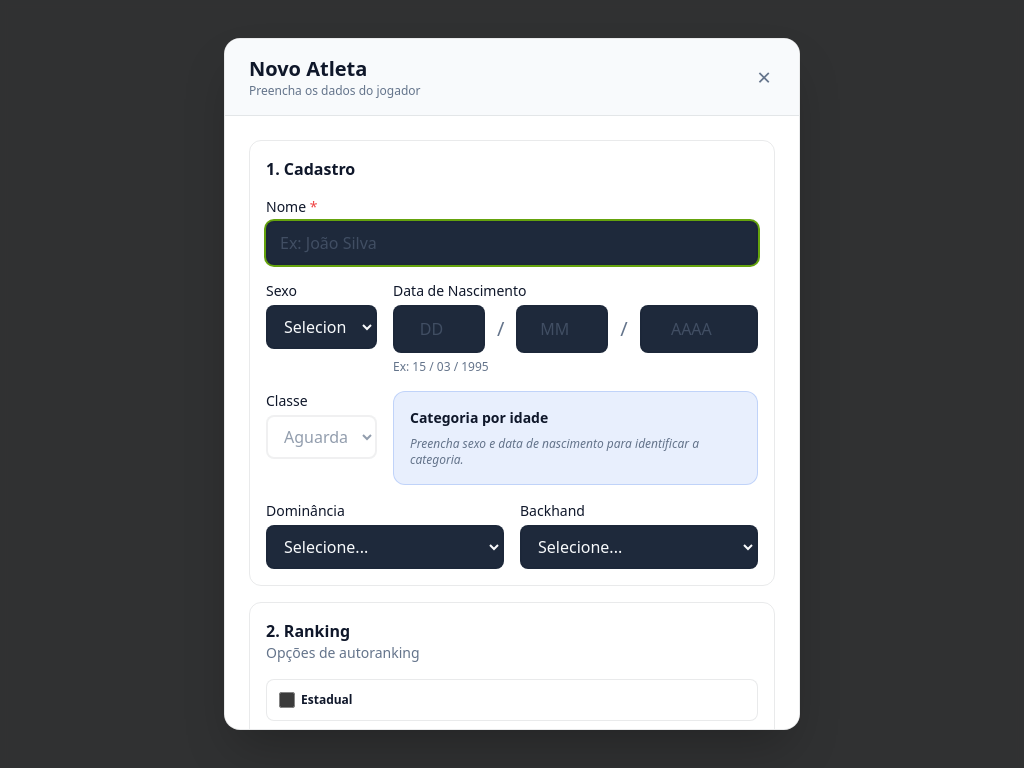
NewAthleteModal — Characterization Tests › Form submission › shows error on network failure
Type "João Silva" into the field with placeholder "Ex: João Silva".
click(512, 243); type("João Silva")  # box [266,221,758,265]
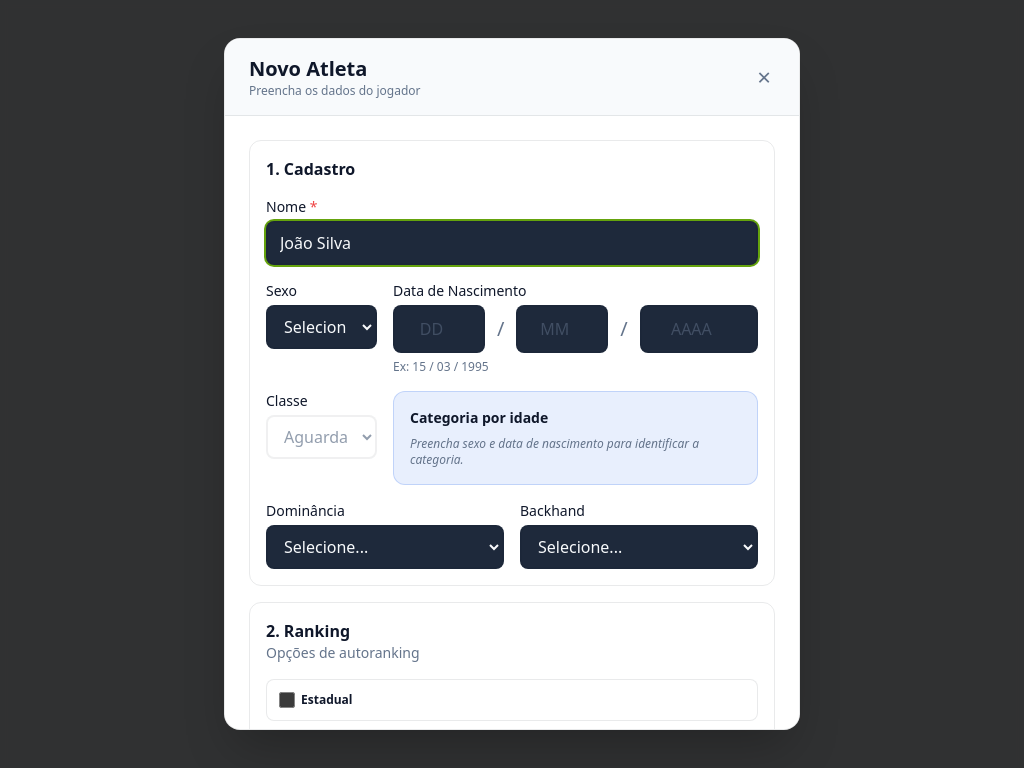
Type "15" into the number field with placeholder "DD".
click(439, 329); type("15")  # box [393,305,485,353]
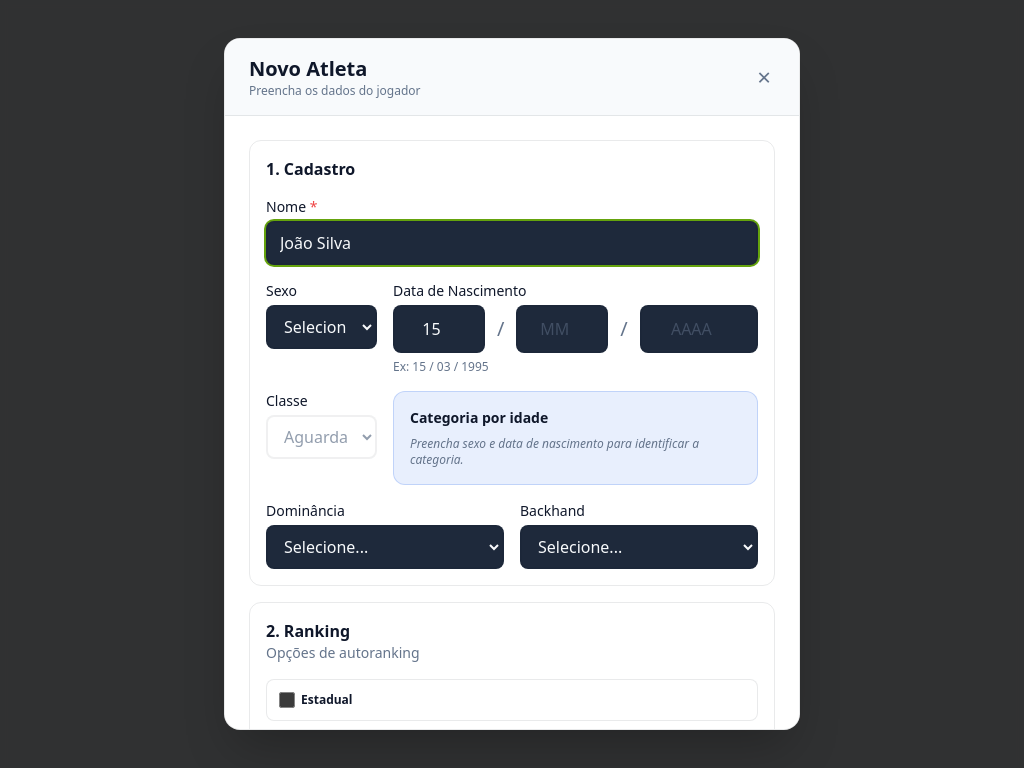
Type "03" into the number field with placeholder "MM".
click(562, 329); type("03")  # box [516,305,608,353]
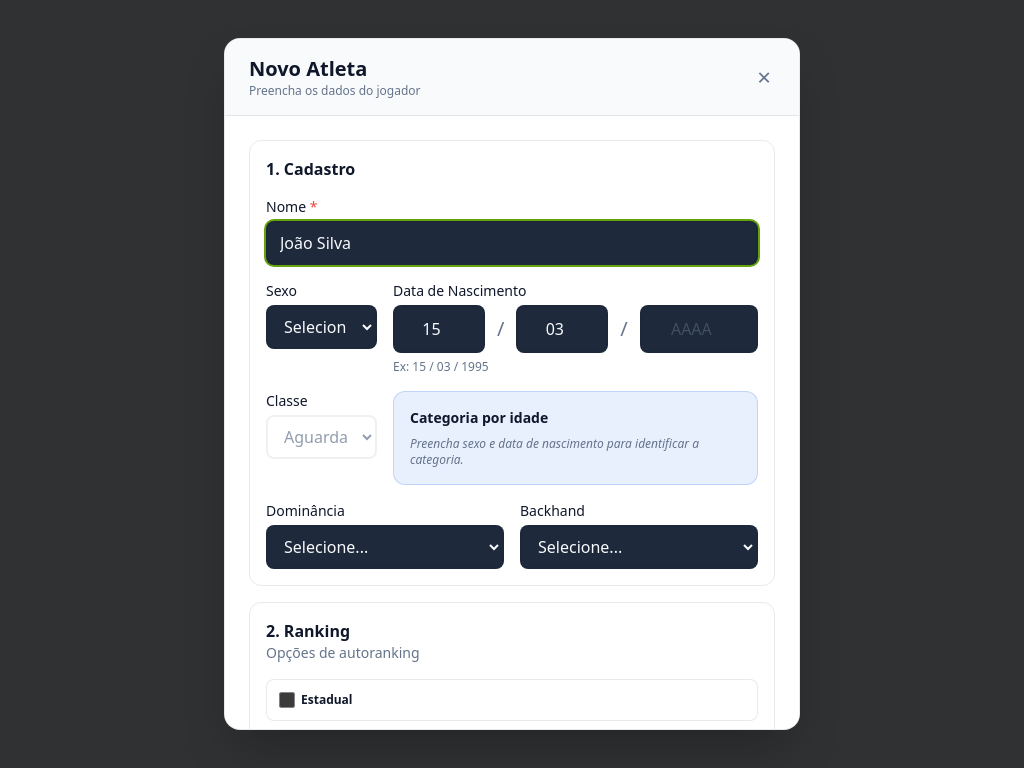
Type "2006" into the number field with placeholder "AAAA".
click(699, 329); type("2006")  # box [640,305,758,353]
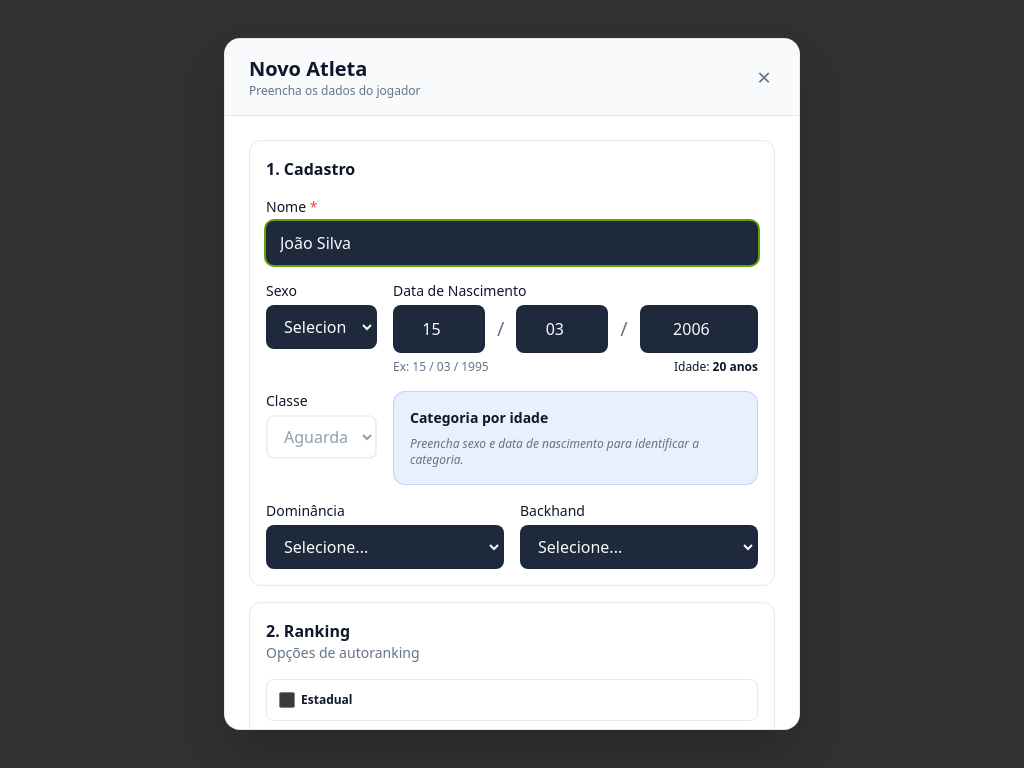
Select "Masculino" in the dropdown labelled "Sexo" at (322, 327), box [266,305,377,349]
(page scrolled)
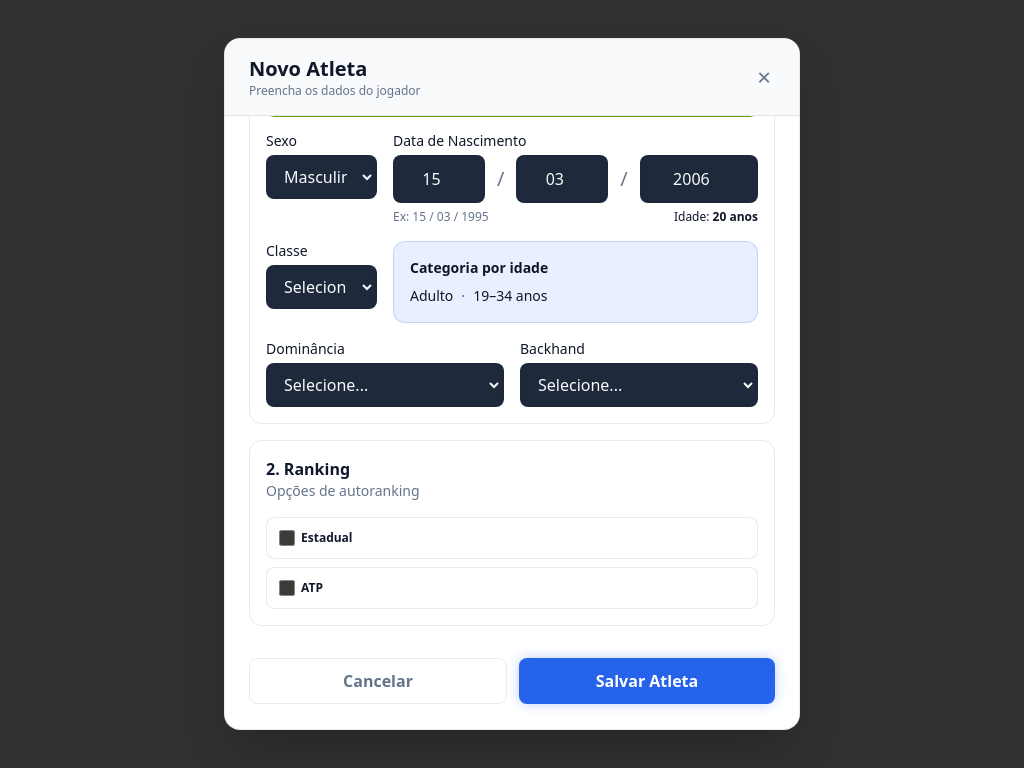
Click the button "Salvar Atleta".
click(647, 681)  # box [519,658,775,704]
(page scrolled)
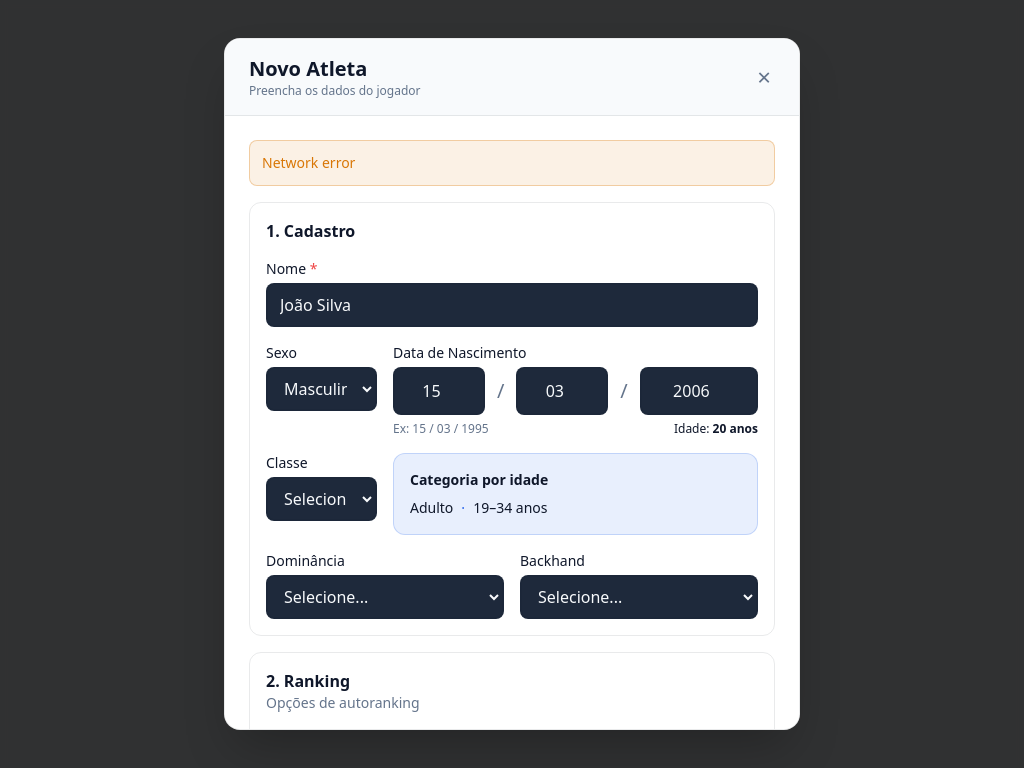
Expected: the text "Network error" is shown, [249,140,775,186]
